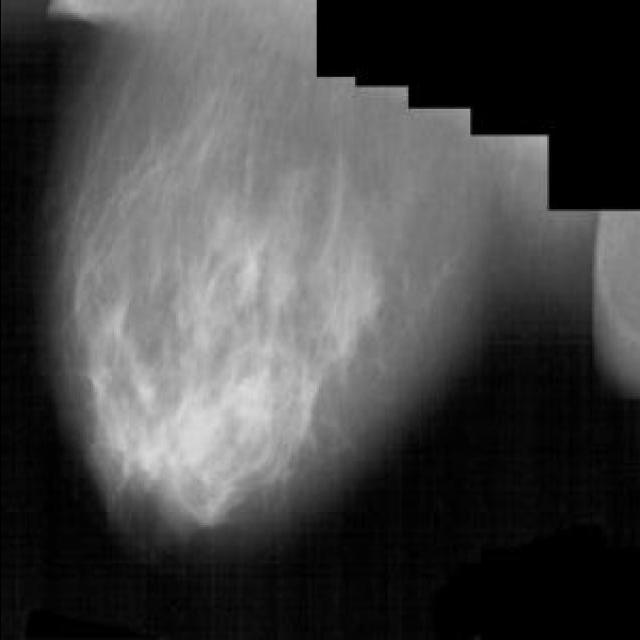tumor: (81, 346, 324, 522)
